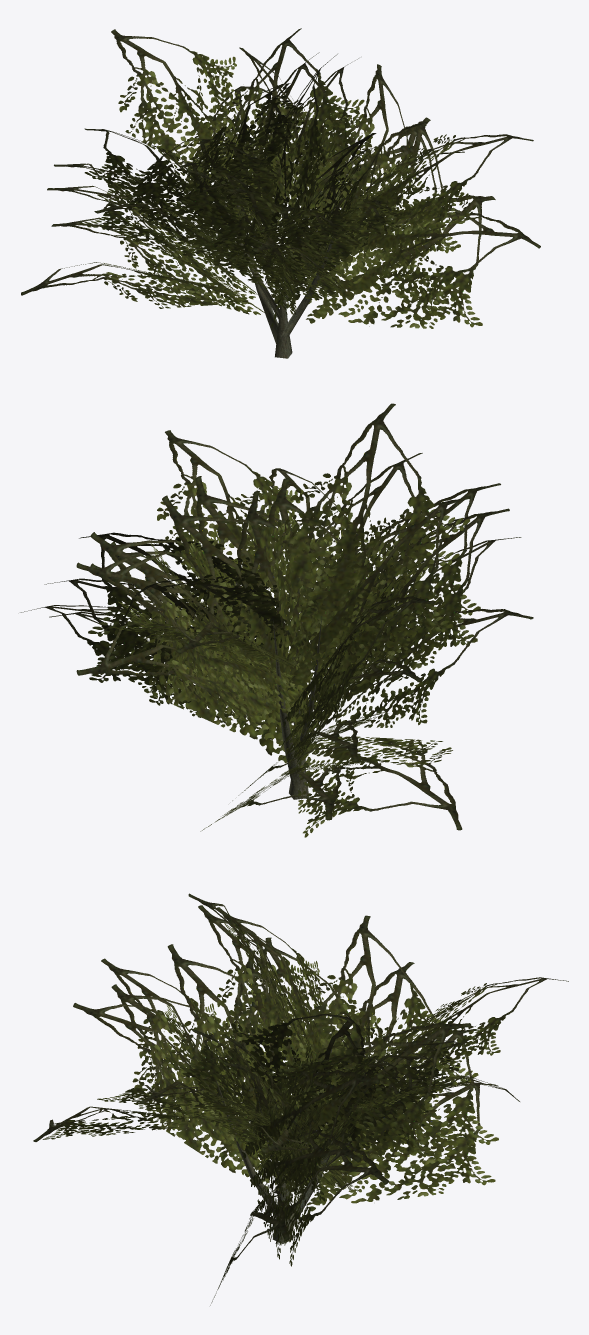
The model's file is bush7.glb.
The picture shows the model from 3 angles, top to bottom: view 1: azimuth 30°, elevation 25°; view 2: azimuth 150°, elevation 25°; view 3: azimuth 270°, elevation 25°; orthographic projection. The views are drawn at different scales.
Parts seen in each view (by area): view 1: Bush7; view 2: Bush7; view 3: Bush7.
Part boxes in pixels (<box>): Bush7: <box>21,28,540,358</box>; Bush7: <box>20,403,533,837</box>; Bush7: <box>33,893,568,1305</box>.
Size of the model in its own units: 9.84 by 6.37 by 9.83.
Materials: 2 (2 with a texture image).
